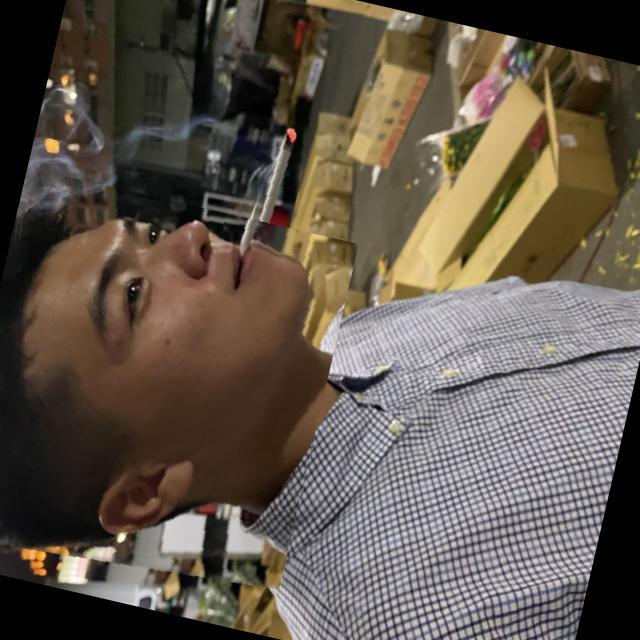cigarette: (228, 100, 316, 292)
